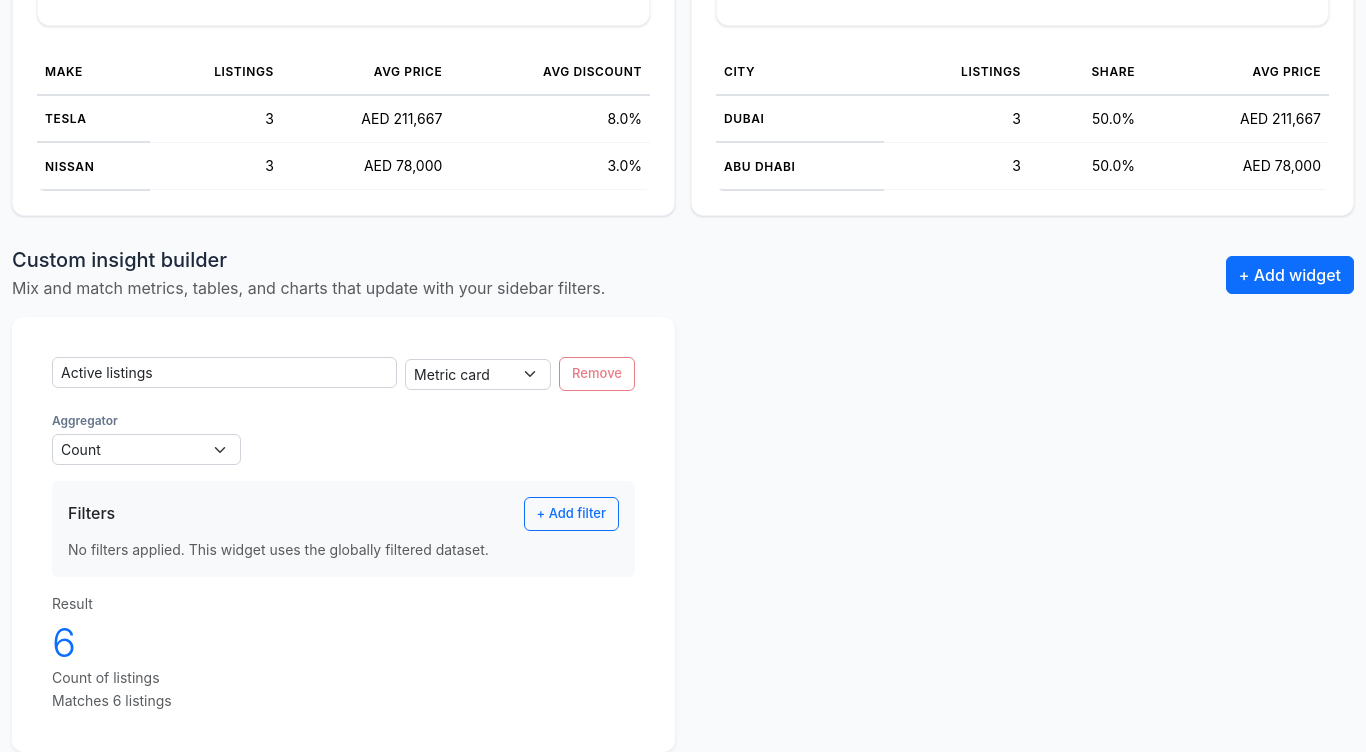
Test: Analytics page › supports summary table widgets
(page scrolled)
Check: the element with placeholder "name your insight" is shown, box [12,317,675,751]
Select "Summary table" in the dropdown named "select widget type" at (478, 374), box [405,359,551,390]
(page scrolled)
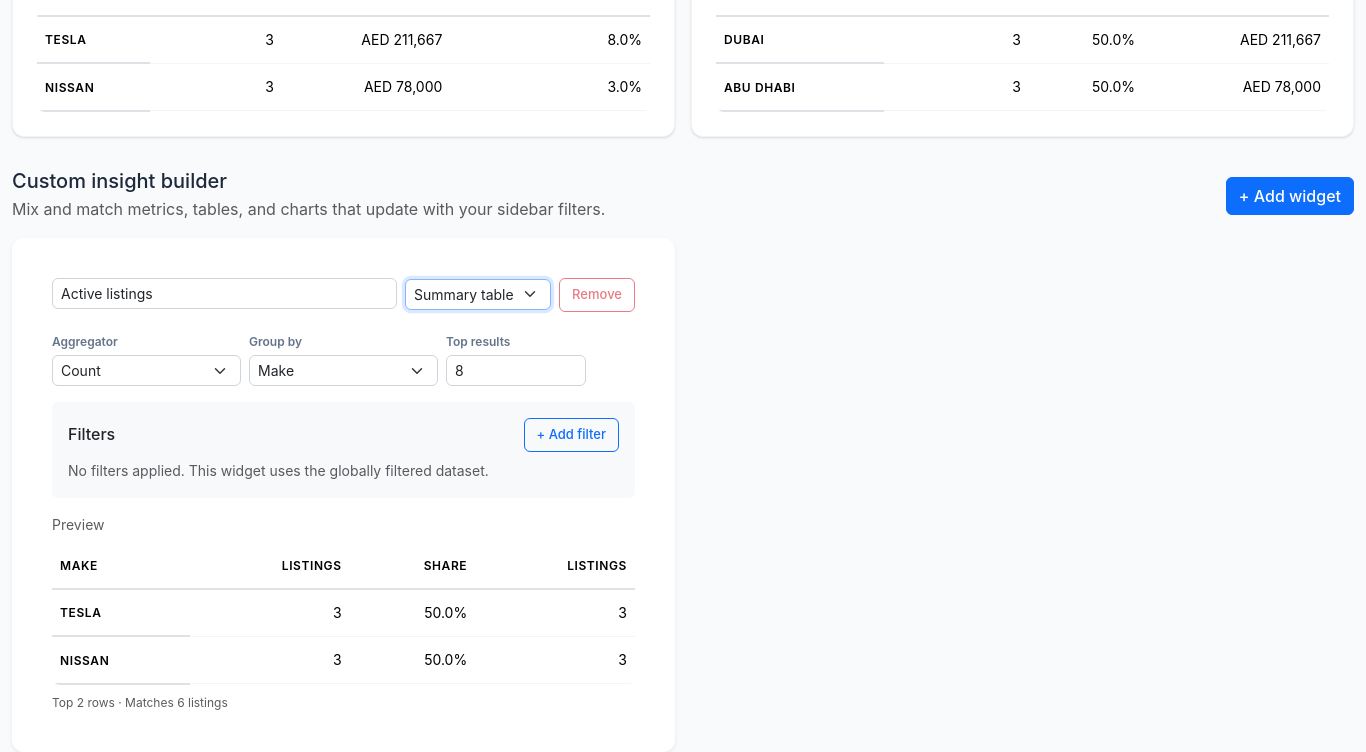
Check: the column heading "Tesla" below "Preview" is shown, box [52,589,190,636]
Check: the column heading "Nissan" below "Preview" is shown, box [52,636,190,684]
